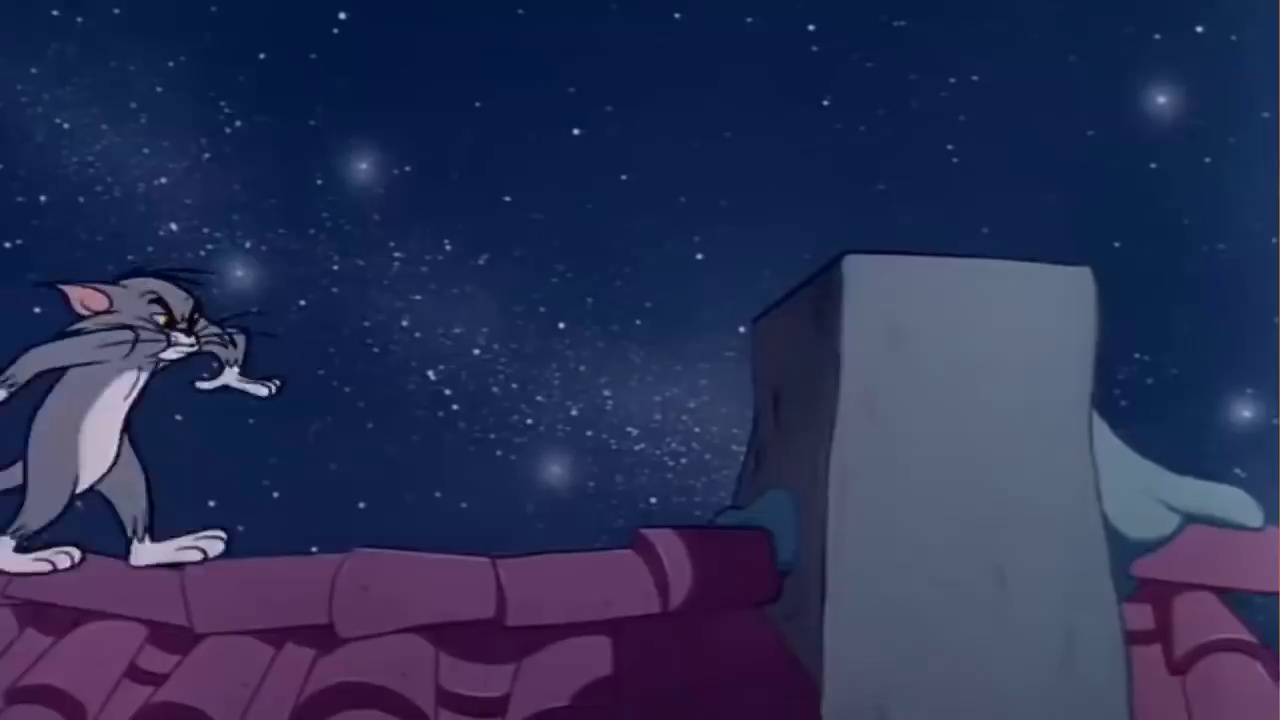face: (136, 284, 209, 365)
